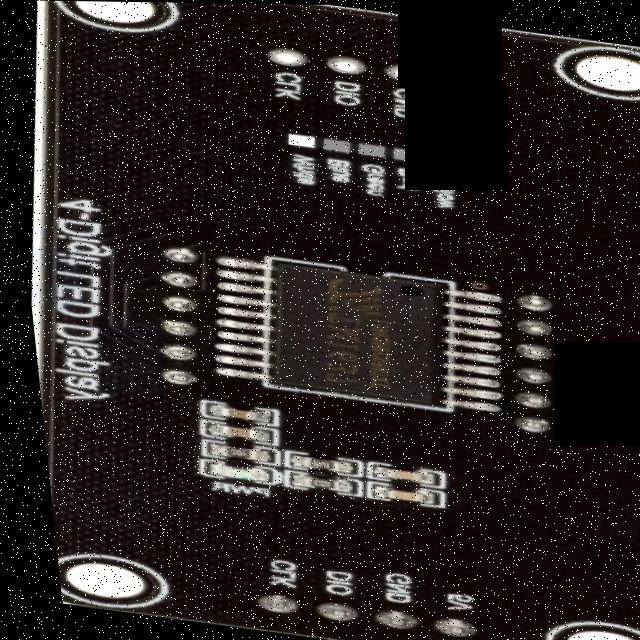IC: (205, 248, 500, 416)
LED: (200, 462, 258, 482)
capacitor 1V5: (364, 485, 428, 503), (203, 420, 256, 441), (367, 465, 422, 482), (204, 403, 259, 418)
resistor IR1: (279, 452, 345, 473), (280, 470, 340, 489), (202, 442, 258, 460)
